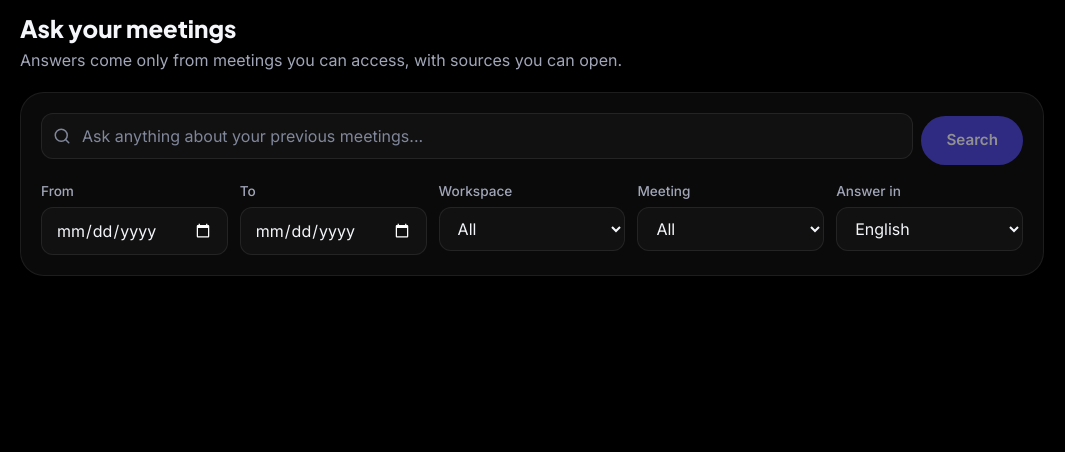
MeetingSearch page states › request failure shows an alert and Retry re-runs the same question
Type "anything" into the text box labelled "Ask anything about your previous meetings..." at [477, 136], box [41, 113, 913, 159]
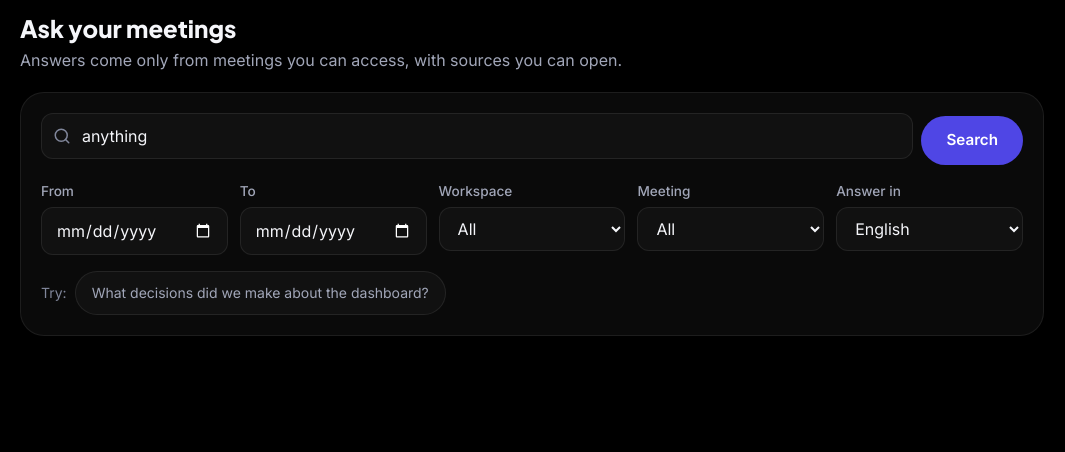
Press Enter in the text box named "Ask anything", box [41, 113, 913, 159]
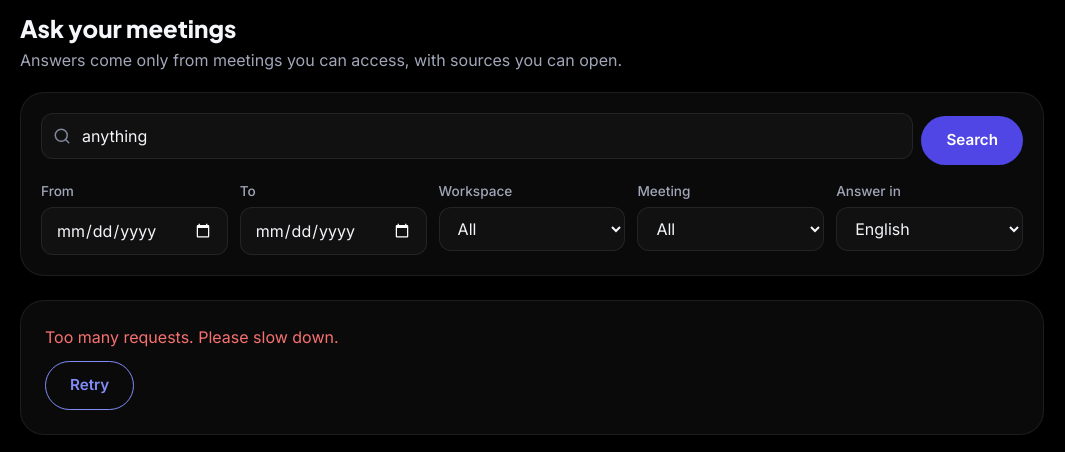
Expected: the message shows "Too many requests", [45, 327, 338, 347]
Click the button "Retry" at [90, 386], box [45, 361, 134, 410]
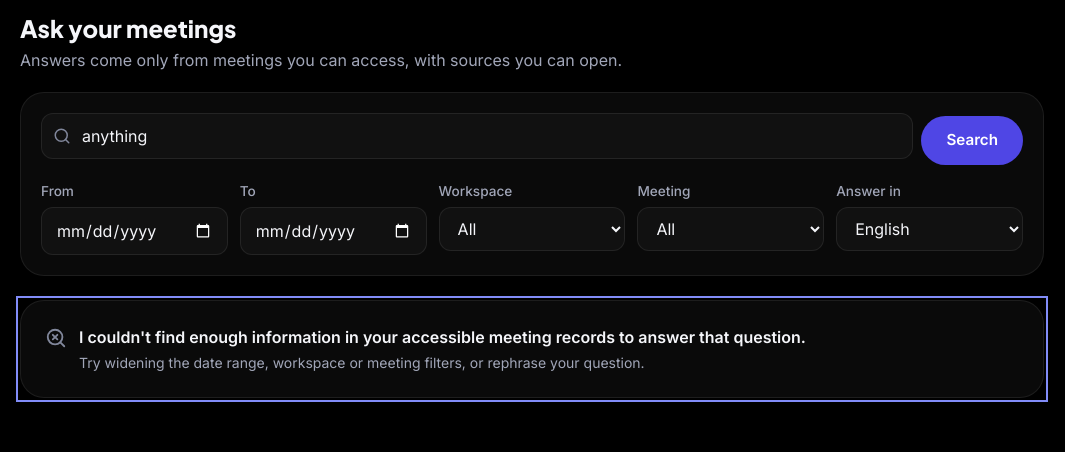
Expected: the text "I couldn't find enough information in your accessible meeting records to answer that question." is shown, [79, 327, 806, 347]
